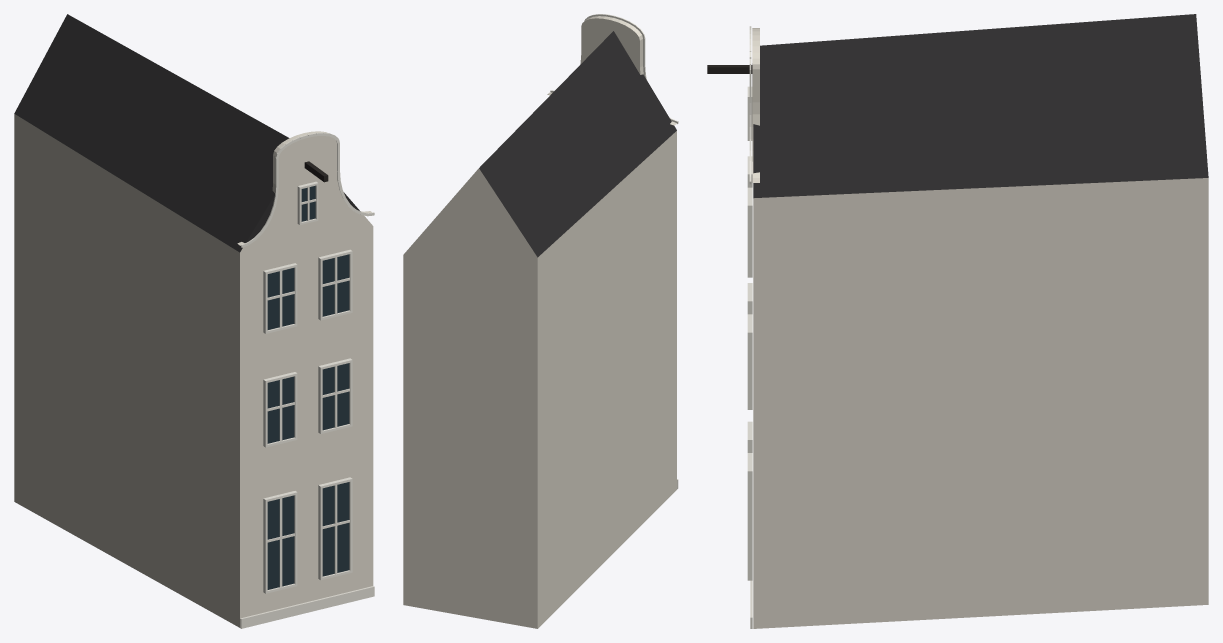
3 renders of one model, left to right at view 1: azimuth 30°, elevation 25°; view 2: azimuth 150°, elevation 25°; view 3: azimuth 270°, elevation 25°, orthographic. The views are drawn at different scales.
Visible parts, largest first — view 1: spec-0363100012171172; view 2: spec-0363100012171172; view 3: spec-0363100012171172.
Boxes of the visible parts, x1,y1,x2,y2 form: spec-0363100012171172: (14,14,374,628); spec-0363100012171172: (403,14,678,628); spec-0363100012171172: (707,14,1208,628).
Size of the model in its own units: 5.59 by 14.72 by 12.
